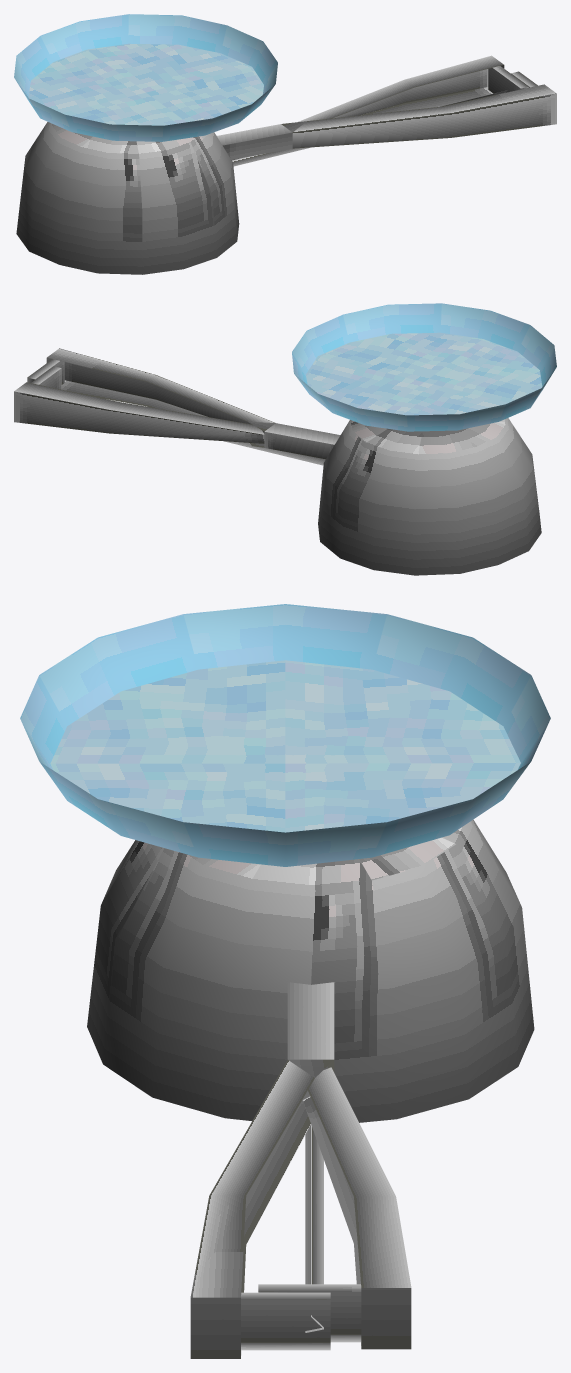
3 renders of one model, top to bottom at view 1: azimuth 30°, elevation 25°; view 2: azimuth 150°, elevation 25°; view 3: azimuth 270°, elevation 25°, orthographic. The views are drawn at different scales.
Parts seen in each view (by area): view 1: disher2; view 2: disher2; view 3: disher2.
Part boxes in pixels (x1,y1,x2,y2): disher2: [14, 14, 556, 274]; disher2: [14, 303, 556, 575]; disher2: [20, 604, 550, 1358].
Bounding box in the file's own units: 0.6864 × 0.2113 × 0.3129.
Materials: 4 (4 with a texture image).
